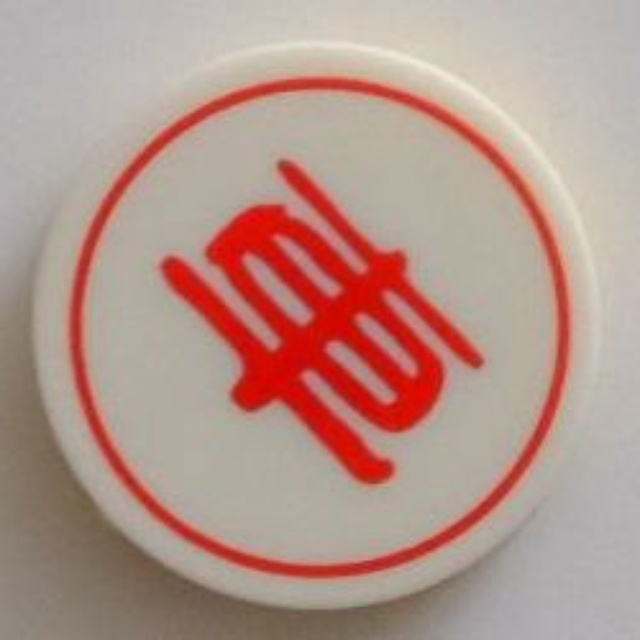red_xe: (20, 39, 631, 616)
